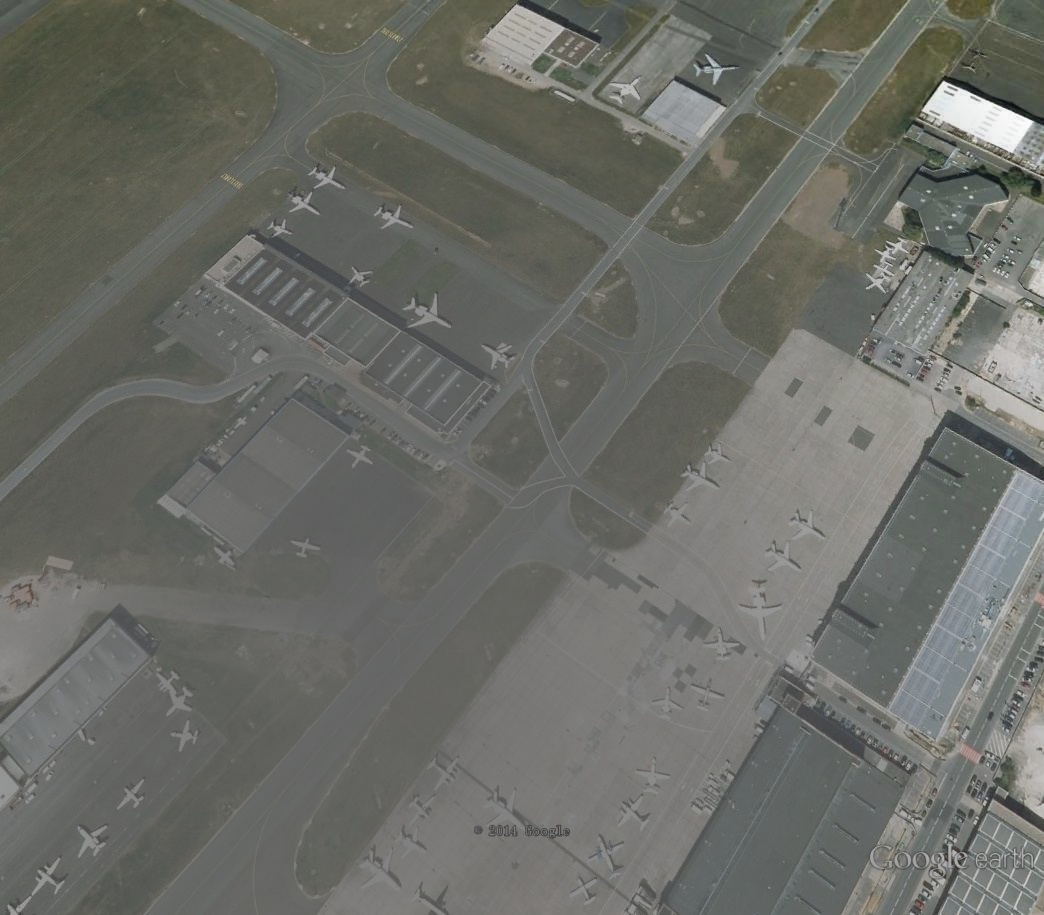aircraft: (732, 582, 786, 645), (480, 786, 534, 838), (585, 831, 630, 886), (399, 291, 460, 331), (354, 847, 403, 892), (691, 51, 741, 93), (760, 537, 810, 577), (631, 754, 673, 799), (424, 751, 465, 796), (784, 507, 831, 546), (27, 856, 69, 898), (700, 625, 745, 664), (400, 790, 441, 831), (687, 676, 727, 717), (279, 187, 327, 220), (679, 460, 723, 496), (72, 820, 112, 859), (651, 685, 685, 730), (616, 795, 654, 835), (390, 826, 433, 861), (477, 340, 522, 373), (405, 883, 453, 913), (304, 163, 348, 195), (567, 873, 601, 912), (609, 75, 649, 108), (660, 496, 697, 531), (168, 718, 202, 756), (370, 204, 415, 232), (162, 684, 196, 720), (117, 778, 150, 813), (342, 442, 378, 472), (286, 535, 327, 561), (211, 543, 243, 573), (153, 667, 184, 697), (348, 264, 381, 291), (699, 442, 735, 466), (861, 268, 892, 295), (261, 217, 300, 238), (873, 258, 903, 283), (882, 235, 913, 258), (873, 243, 898, 267), (1, 898, 33, 915)
